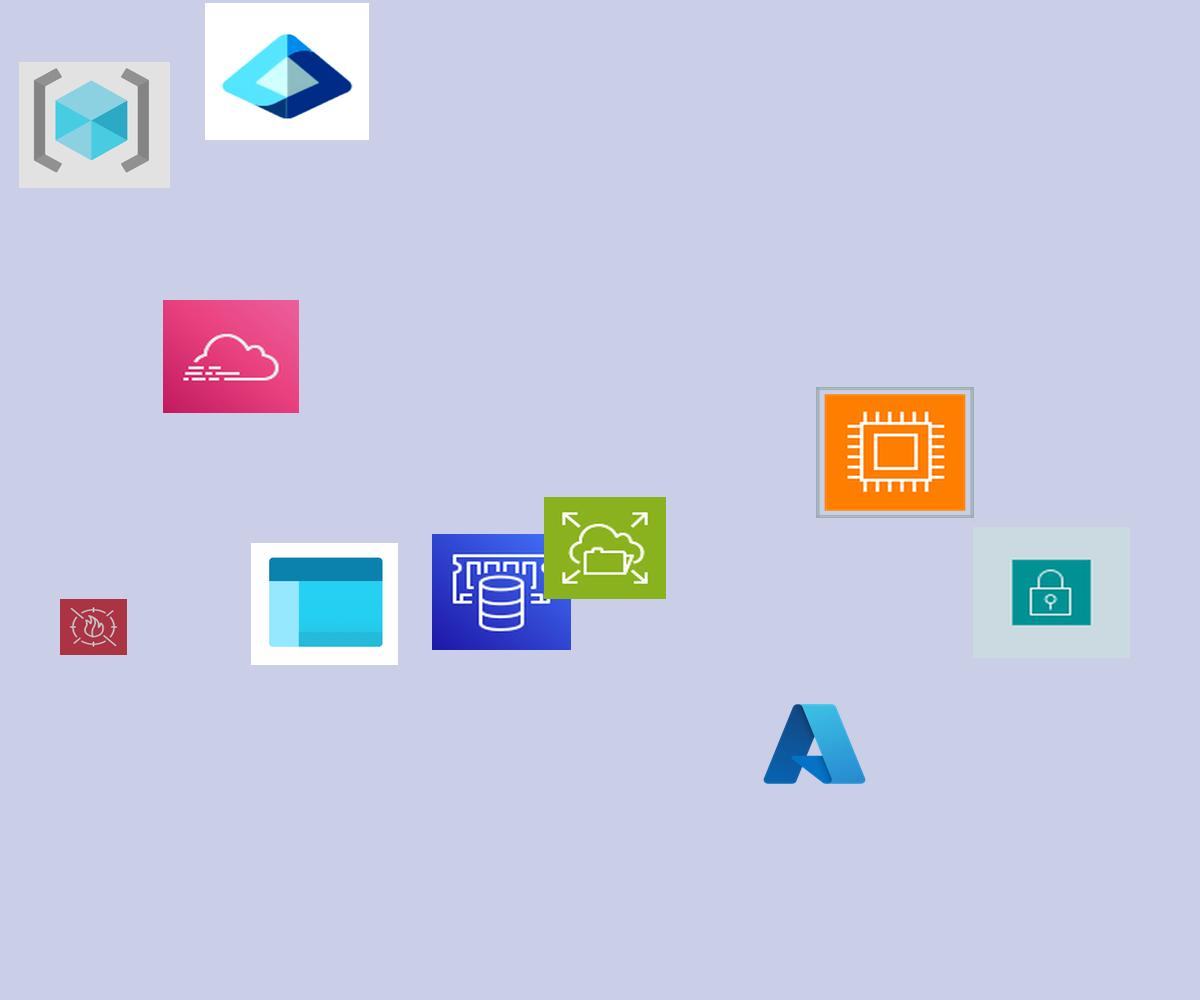AWS-Category_Compute: (816, 387, 974, 518)
AWS-CloudTrail: (163, 300, 299, 413)
AWS-EFS: (544, 497, 666, 599)
AWS-ElastiCache: (432, 534, 571, 650)
AWS-Private-subnet: (973, 527, 1130, 658)
AWS-WAF: (60, 599, 127, 655)
Azure_management-portal: (251, 543, 398, 665)
Azure_microsoft_entra: (205, 3, 369, 140)
Azure_resource_group: (19, 62, 170, 188)
Azure_services: (759, 698, 870, 790)
